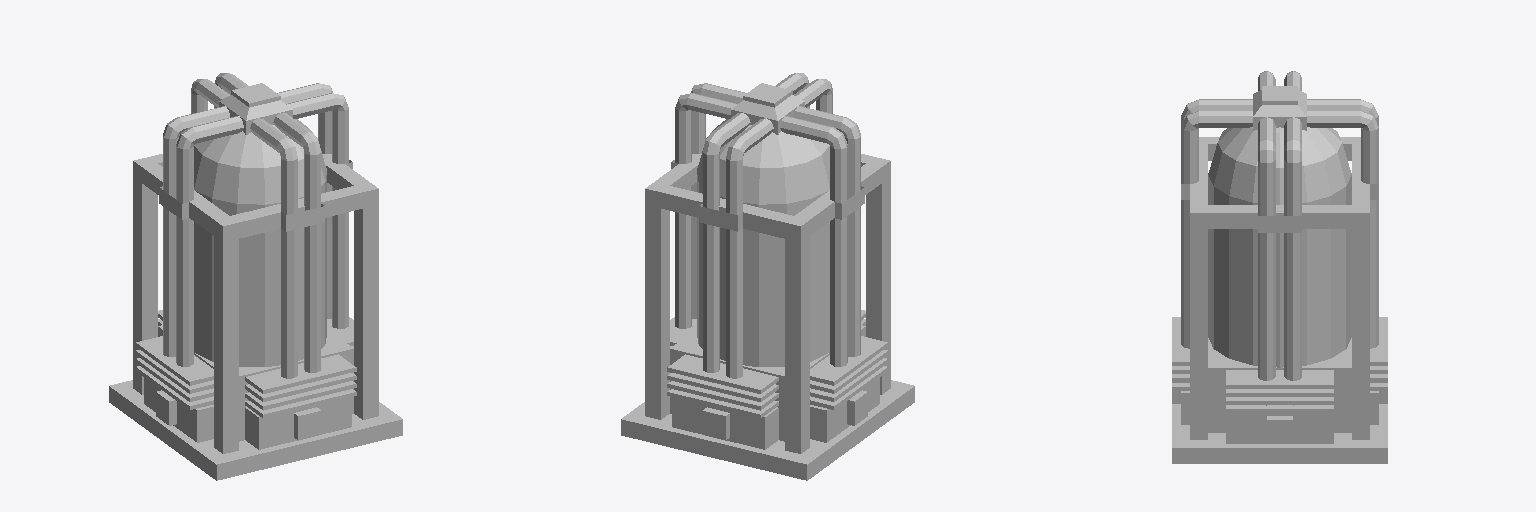
Rendered from industrial_boiler.obj.
The picture shows the model from 3 angles: view 1: azimuth 30°, elevation 25°; view 2: azimuth 150°, elevation 25°; view 3: azimuth 270°, elevation 25°; orthographic projection.
Parts seen in each view (by area): view 1: Plane; view 2: Plane; view 3: Plane.
Boxes of the visible parts, <box> form: Plane: <box>109,73,402,480</box>; Plane: <box>621,73,914,480</box>; Plane: <box>1172,71,1387,463</box>.
Bounding box in the file's own units: 3 × 5 × 3.